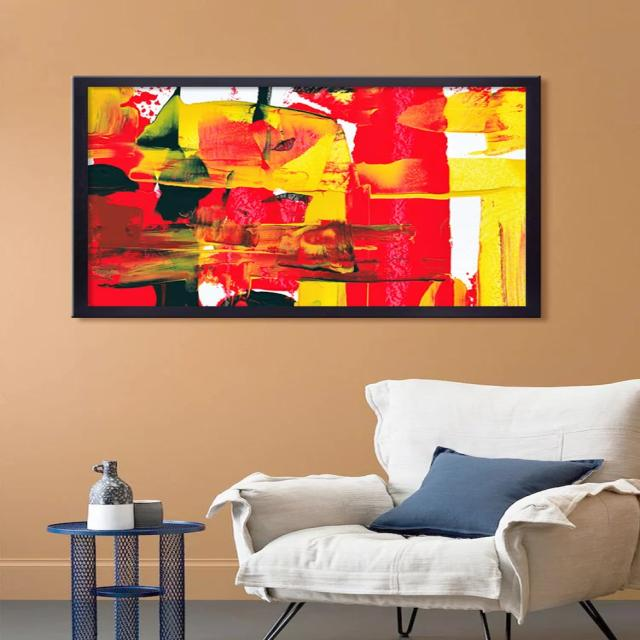painting: (74, 76, 543, 318)
